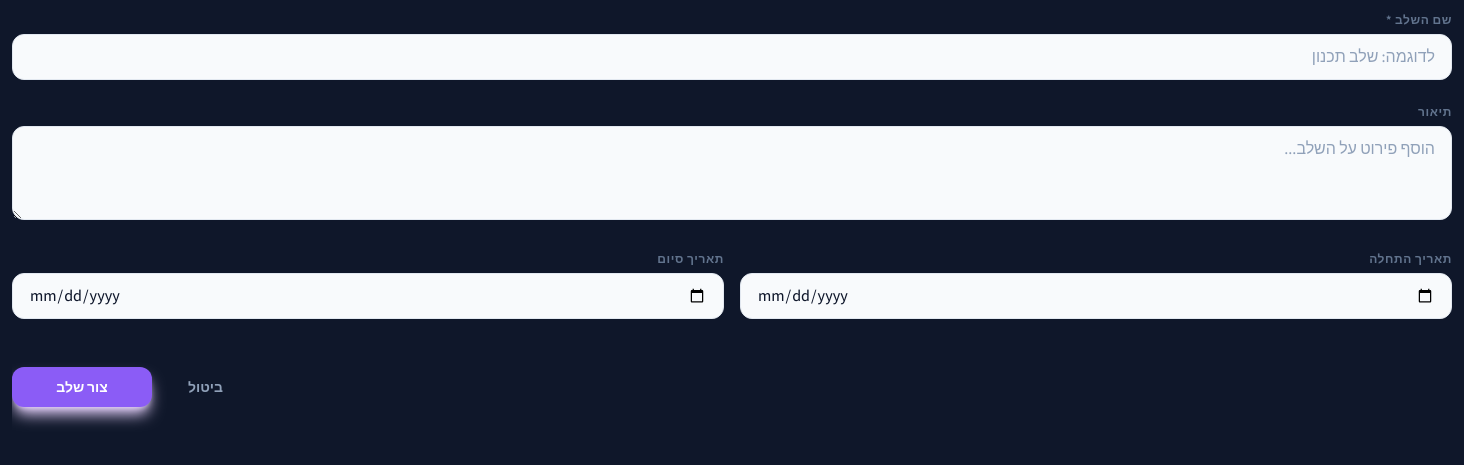
PhaseForm › validation › shows error when name is empty
Click the button "צור שלב": coordinates (82, 387) [12,367,152,407]
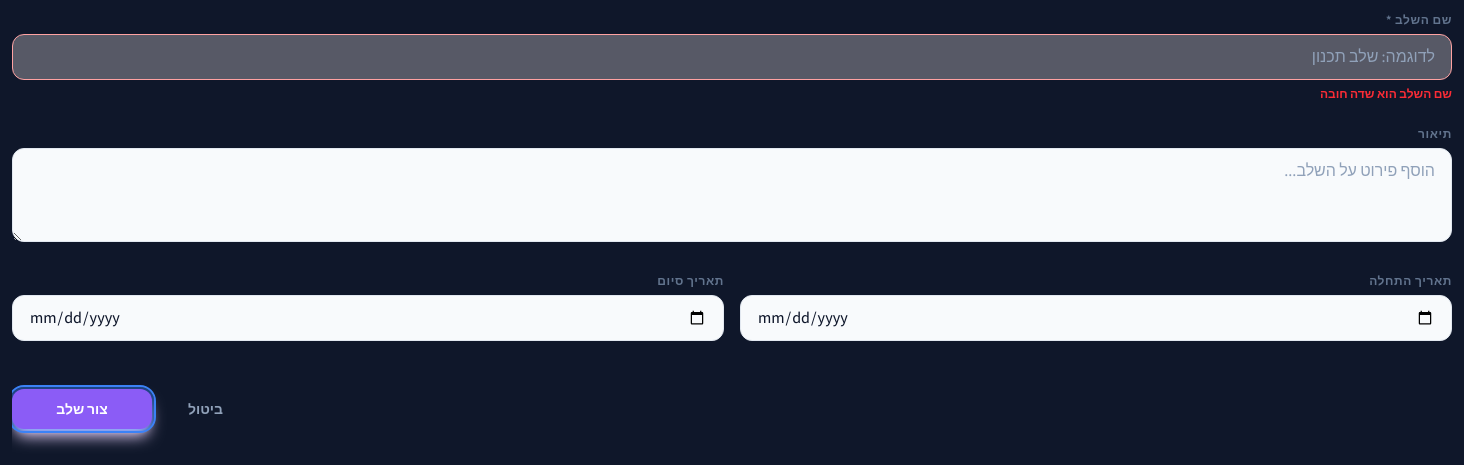
expect the text "שם השלב הוא שדה חובה" is shown: met, box [1320,86,1452,101]
